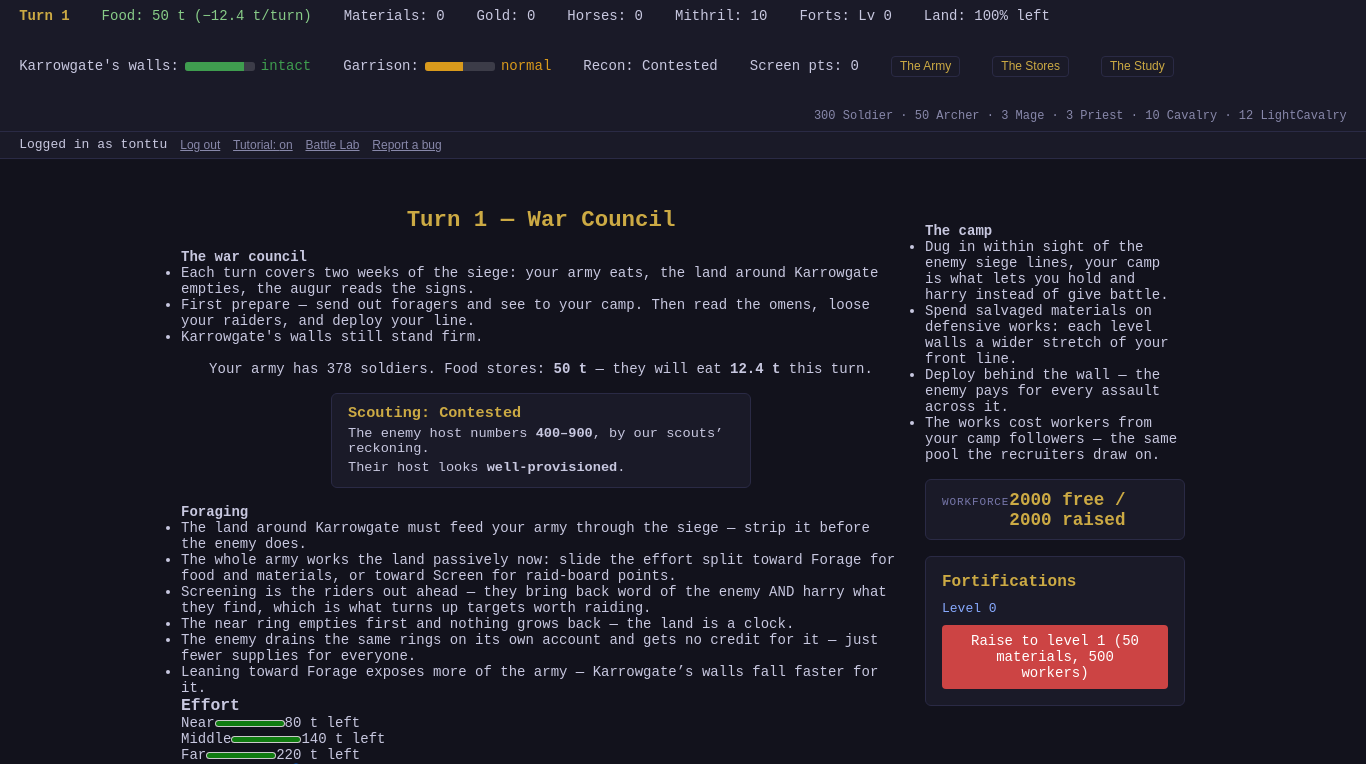
Test: character panel › leads to each character’s own sheet, and posts nothing itself
This screenshot has width=1366, height=764.
Expected: the heading "Turn 1 — War Council" is shown, [407,207,675,233]
Click the button with test id "hud-army".
click(926, 66)  # box [891,56,960,77]
(page scrolled)
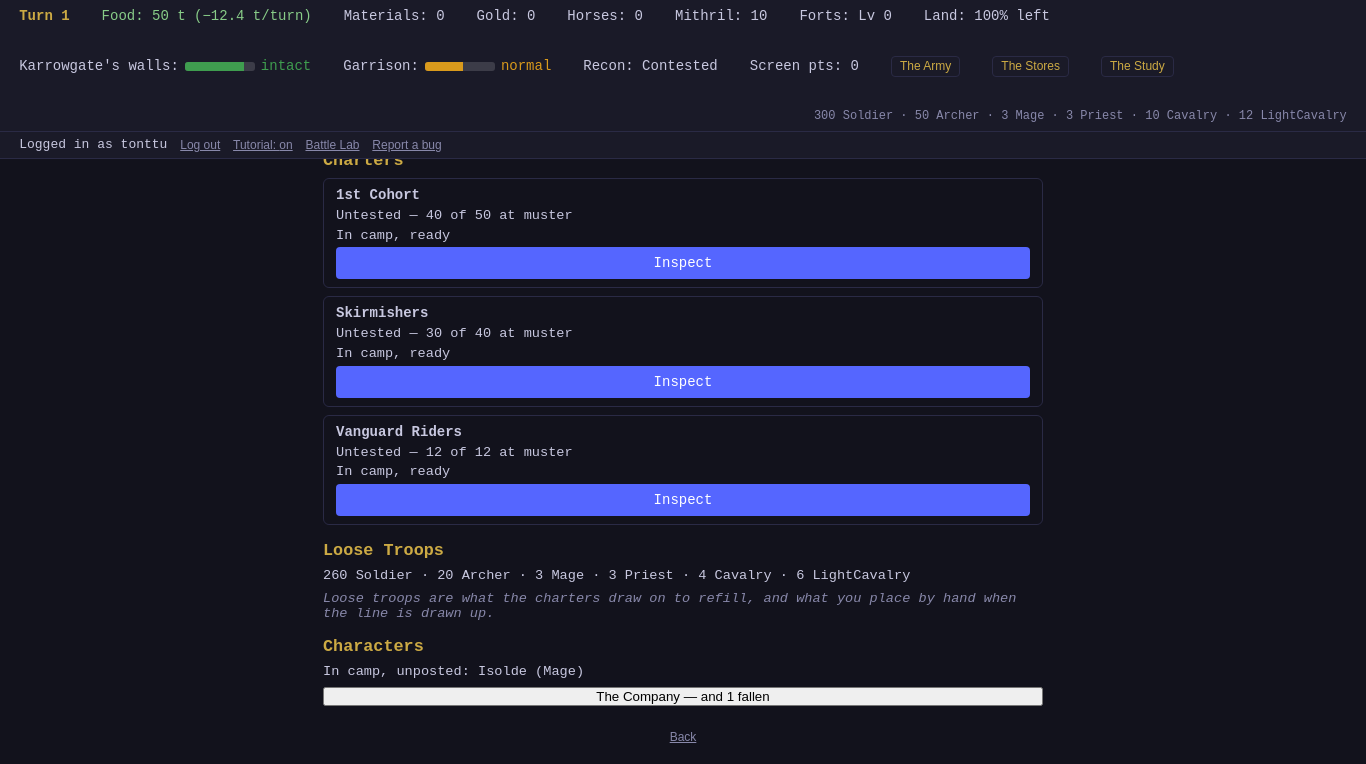
Now the element with test id "squad-roll" is shown, box [323,159,1043,706]
Click the button with test id "roll-to-company".
click(683, 697)  # box [323,687,1043,706]
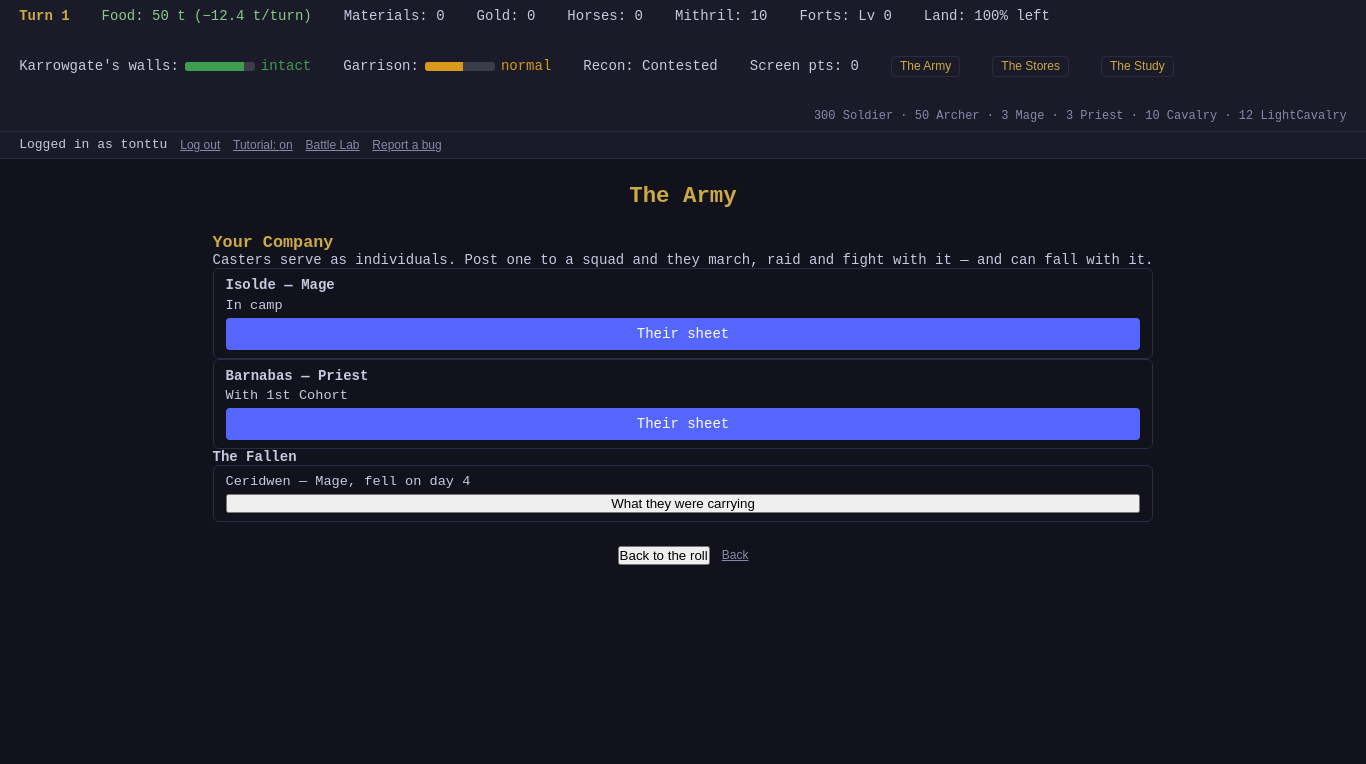
Now the element with test id "character-panel" is shown, box [212,225,1154,522]
Click the button with test id "character-open-1".
click(683, 334)  # box [226,318,1140,350]
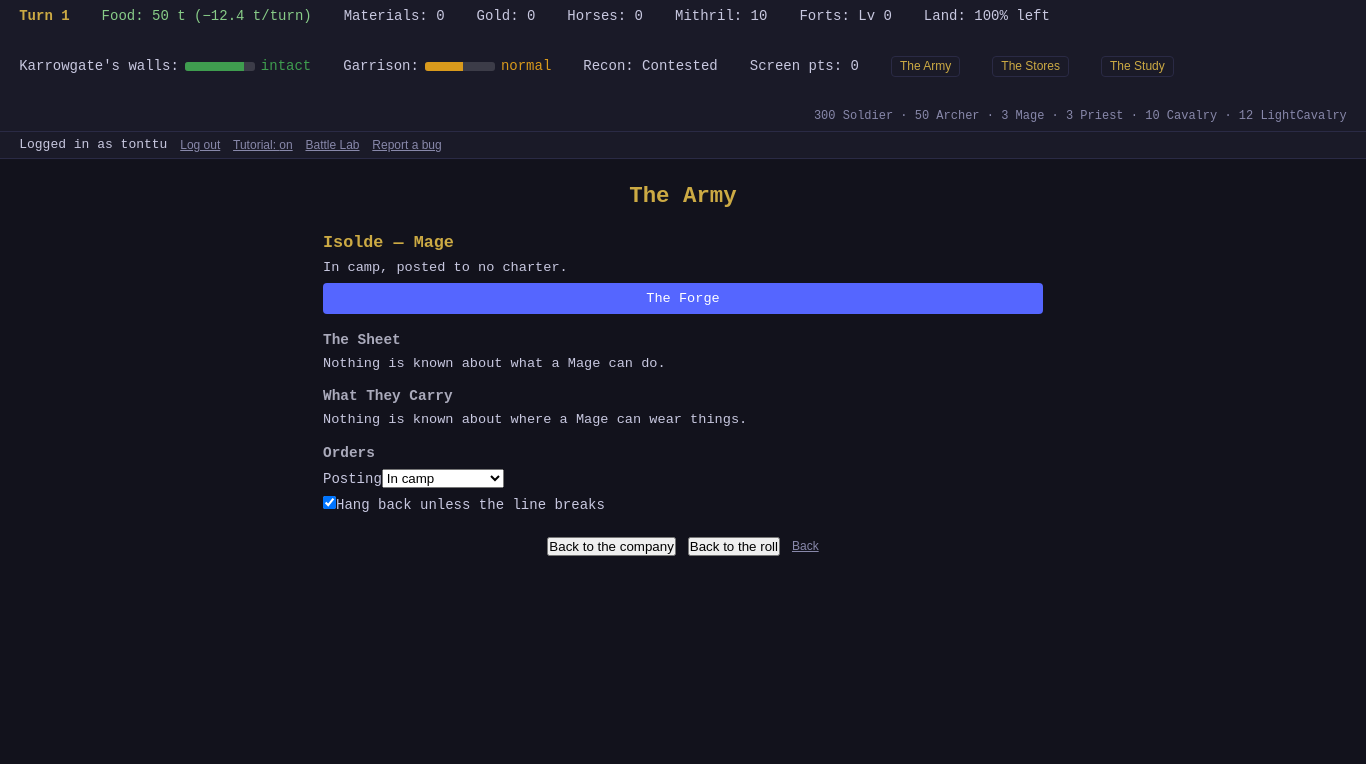
Now the element with test id "character-sheet-1" is shown, box [323,225,1043,513]
